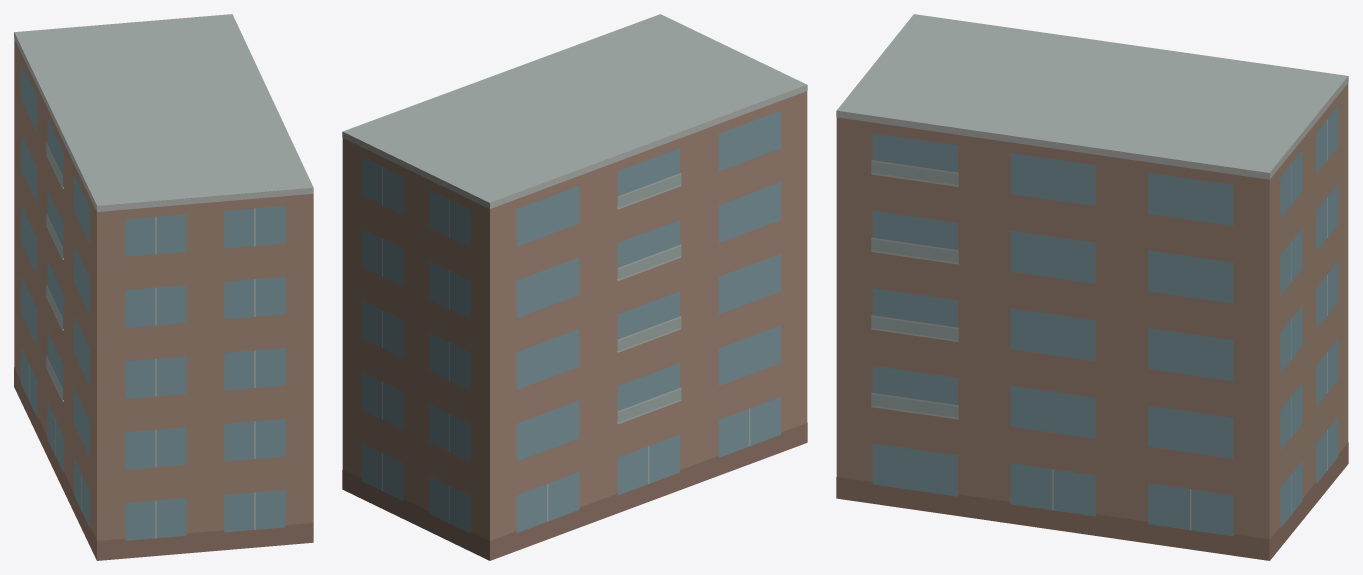
The model's file is survey-upis-32709033.glb.
3 views of the same model, side by side, from view 1: azimuth 30°, elevation 25°; view 2: azimuth 150°, elevation 25°; view 3: azimuth 270°, elevation 25° (orthographic). The views are drawn at different scales.
Visible parts, largest first — view 1: survey-upis-32709033.tmp; view 2: survey-upis-32709033.tmp; view 3: survey-upis-32709033.tmp.
Boxes of the visible parts, x1,y1,x2,y2 form: survey-upis-32709033.tmp: (14, 14, 313, 560); survey-upis-32709033.tmp: (342, 14, 807, 560); survey-upis-32709033.tmp: (836, 14, 1348, 560).
Bounding box in the file's own units: 12.5 × 14.2 × 17.
